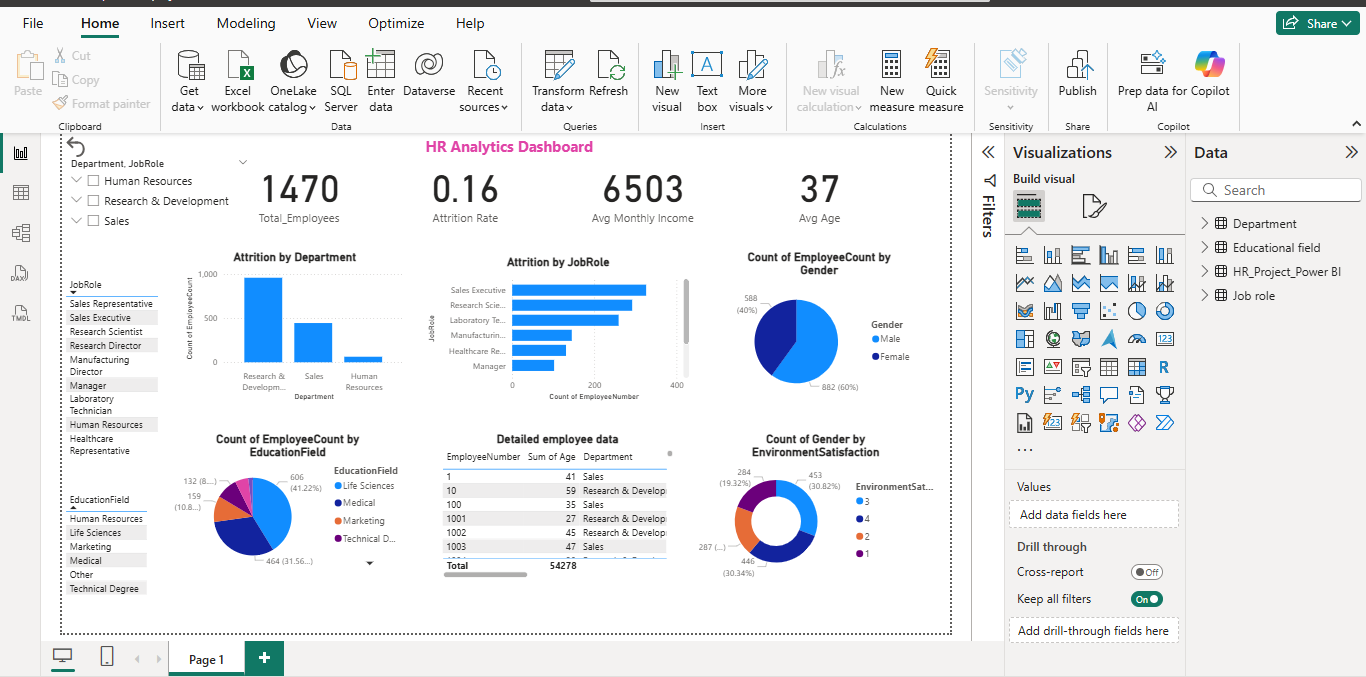

Layout of this report page (visuals, bound fields, positions):
{"tool":"powerbi","page":{"name":"Page 1","canvas":[1280,720],"ordinal":0},"visuals":[{"type":"slicer","fields":{"Values":["HR_Project_Power BI.Department","HR_Project_Power BI.JobRole"]},"box":[0,30,280,138.3],"z":0},{"type":"tableEx","fields":{"Values":["HR_Project_Power BI.JobRole"]},"box":[0,203.3,153.3,276.7],"z":1000},{"type":"tableEx","fields":{"Values":["HR_Project_Power BI.EducationField"]},"box":[0,512.3,139.4,168],"z":2000},{"type":"actionButton","box":[0,0,101.3,39.7],"z":3000},{"type":"card","fields":{"Values":["HR_Project_Power BI.Total_Employees"]},"box":[266,0,150,168],"z":4000},{"type":"card","fields":{"Values":["HR_Project_Power BI.Attrition Rate"]},"box":[498.3,0,165,168.3],"z":5000},{"type":"card","fields":{"Values":["HR_Project_Power BI.Avg Monthly Income"]},"box":[753.3,0,166.7,168.3],"z":6000},{"type":"card","fields":{"Values":["HR_Project_Power BI.Avg Age"]},"box":[1021.7,20,140,128.3],"z":7000},{"type":"columnChart","title":"Attrition by Department","fields":{"Category":["HR_Project_Power BI.Department"],"Y":["CountNonNull(HR_Project_Power BI.EmployeeCount)"]},"box":[173.3,168.3,325,221.7],"z":8000},{"type":"clusteredBarChart","title":"Attrition by JobRole","fields":{"Category":["HR_Project_Power BI.JobRole"],"Y":["CountNonNull(HR_Project_Power BI.EmployeeNumber)"]},"box":[521.7,175,386.7,215],"z":9000},{"type":"pieChart","fields":{"Category":["HR_Project_Power BI.Gender"],"Y":["CountNonNull(HR_Project_Power BI.EmployeeCount)"]},"box":[945,168.3,291.7,221.7],"z":10000},{"type":"pieChart","fields":{"Category":["HR_Project_Power BI.EducationField"],"Y":["CountNonNull(HR_Project_Power BI.EmployeeCount)"]},"box":[153.3,430,345,201.7],"z":11000},{"type":"tableEx","title":"Detailed employee data","fields":{"Values":["HR_Project_Power BI.EmployeeNumber","Sum(HR_Project_Power BI.Age)","HR_Project_Power BI.Department","HR_Project_Power BI.JobRole","Sum(HR_Project_Power BI.MonthlyIncome)","HR_Project_Power BI.PerformanceRating","HR_Project_Power BI.Attrition"]},"box":[543.3,430,341.7,215],"z":12000},{"type":"donutChart","fields":{"Category":["HR_Project_Power BI.EnvironmentSatisfaction"],"Y":["CountNonNull(HR_Project_Power BI.Gender)"]},"box":[908.3,430,353.3,215],"z":13000},{"type":"textbox","box":[450,0,386.7,56.7],"z":13001}]}

Visuals, with their boxes on the page's 1280x720 design canvas (x1, y1, x2, y2). These are canvas units, not pixel positions in the 1366x677 screenshot, which may show the page scaled, cropped or inside an application window:
slicer - HR_Project_Power BI.Department x HR_Project_Power BI.JobRole: [left=0, top=30, right=280, bottom=168]
tableEx - HR_Project_Power BI.JobRole: [left=0, top=203, right=153, bottom=480]
tableEx - HR_Project_Power BI.EducationField: [left=0, top=512, right=139, bottom=680]
actionButton: [left=0, top=0, right=101, bottom=40]
card - HR_Project_Power BI.Total_Employees: [left=266, top=0, right=416, bottom=168]
card - HR_Project_Power BI.Attrition Rate: [left=498, top=0, right=663, bottom=168]
card - HR_Project_Power BI.Avg Monthly Income: [left=753, top=0, right=920, bottom=168]
card - HR_Project_Power BI.Avg Age: [left=1022, top=20, right=1162, bottom=148]
"Attrition by Department" columnChart: [left=173, top=168, right=498, bottom=390]
"Attrition by JobRole" clusteredBarChart: [left=522, top=175, right=908, bottom=390]
pieChart - HR_Project_Power BI.Gender x CountNonNull(HR_Project_Power BI.EmployeeCount): [left=945, top=168, right=1237, bottom=390]
pieChart - HR_Project_Power BI.EducationField x CountNonNull(HR_Project_Power BI.EmployeeCount): [left=153, top=430, right=498, bottom=632]
"Detailed employee data" tableEx: [left=543, top=430, right=885, bottom=645]
donutChart - HR_Project_Power BI.EnvironmentSatisfaction x CountNonNull(HR_Project_Power BI.Gender): [left=908, top=430, right=1262, bottom=645]
textbox: [left=450, top=0, right=837, bottom=57]
